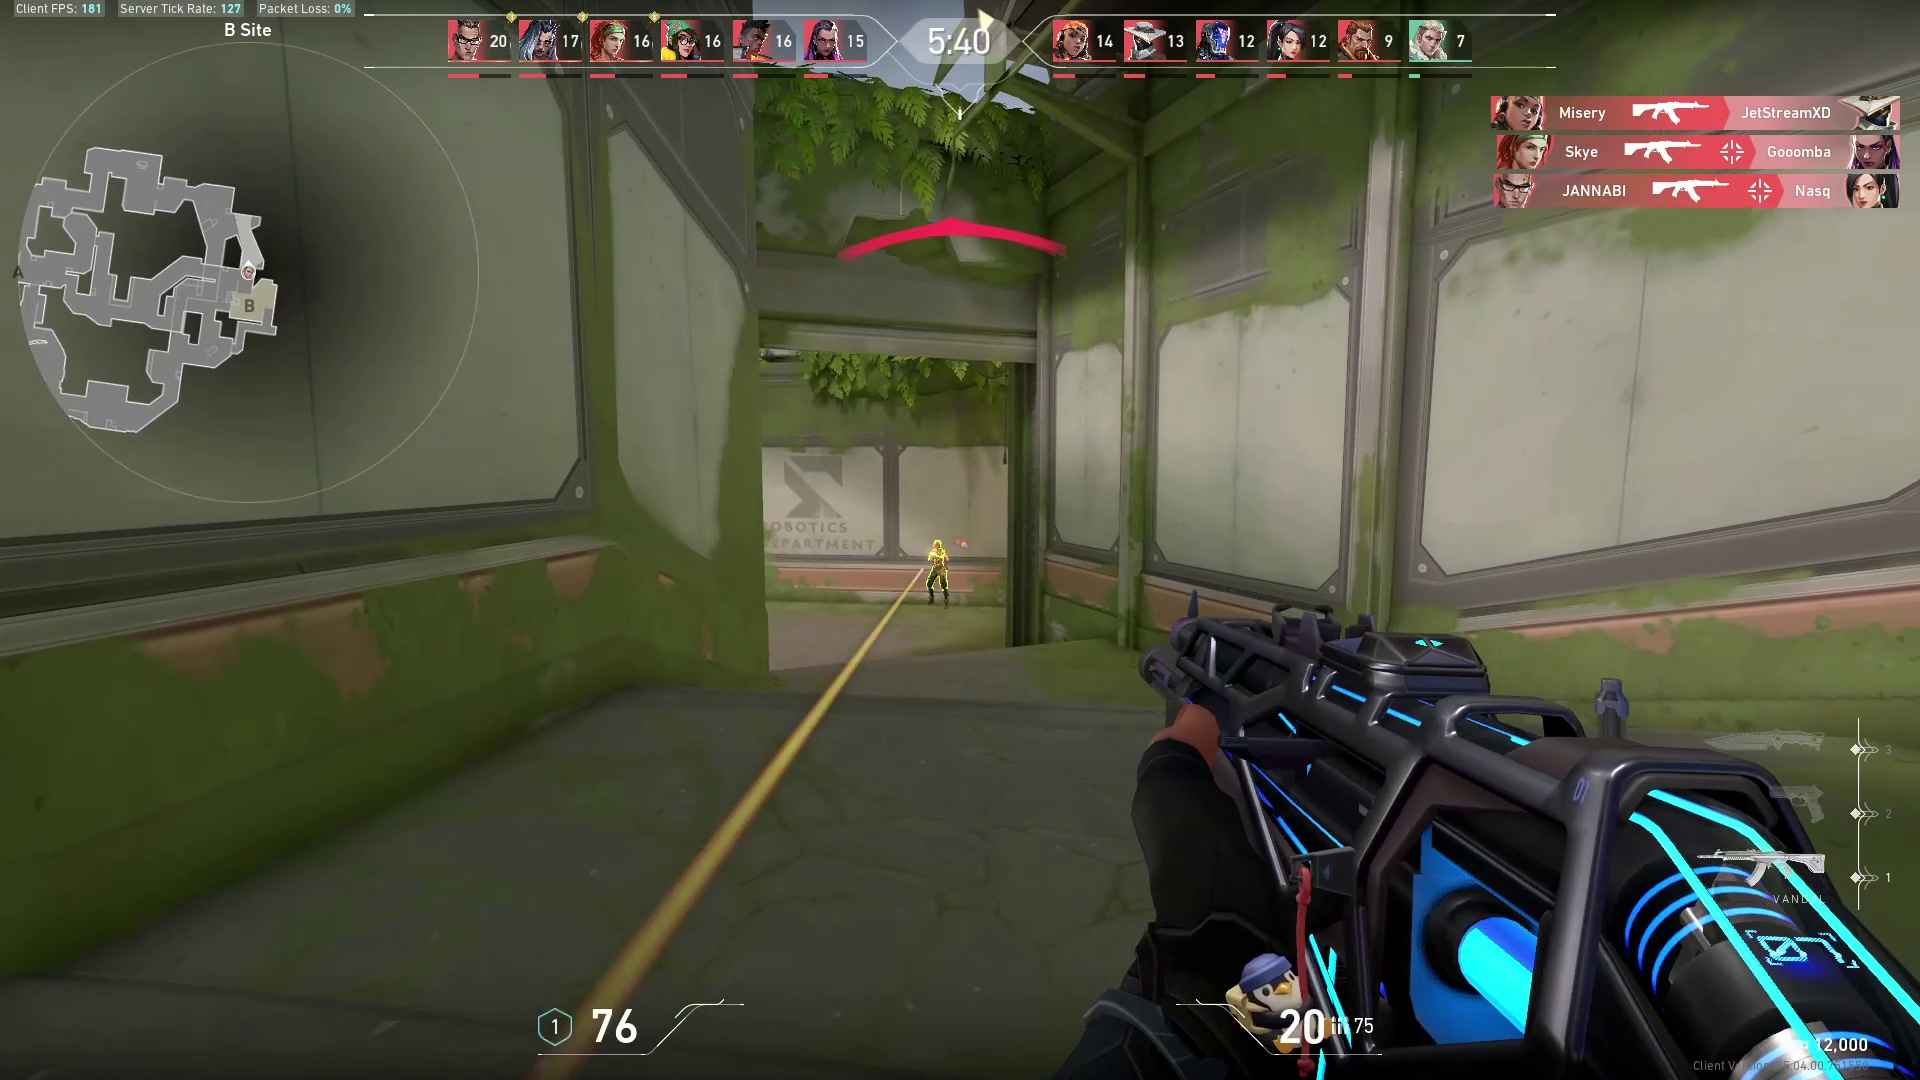enemy_body: (924, 550, 955, 612)
enemy_head: (930, 537, 945, 550)
